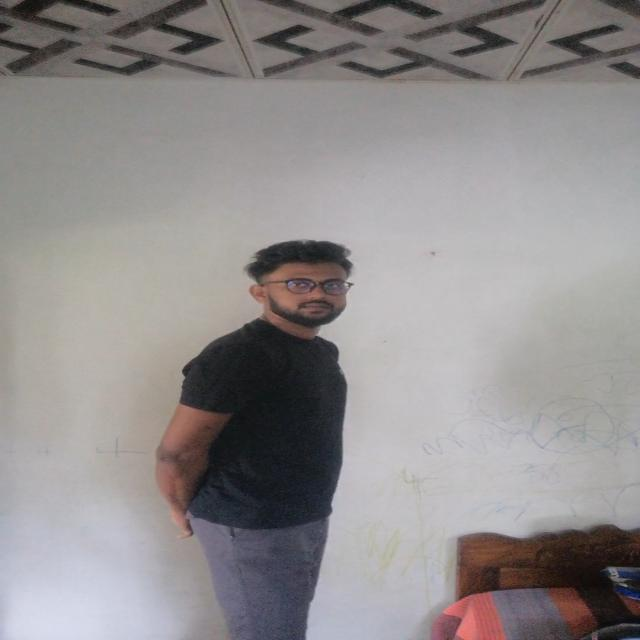Person: (148, 236, 382, 640)
